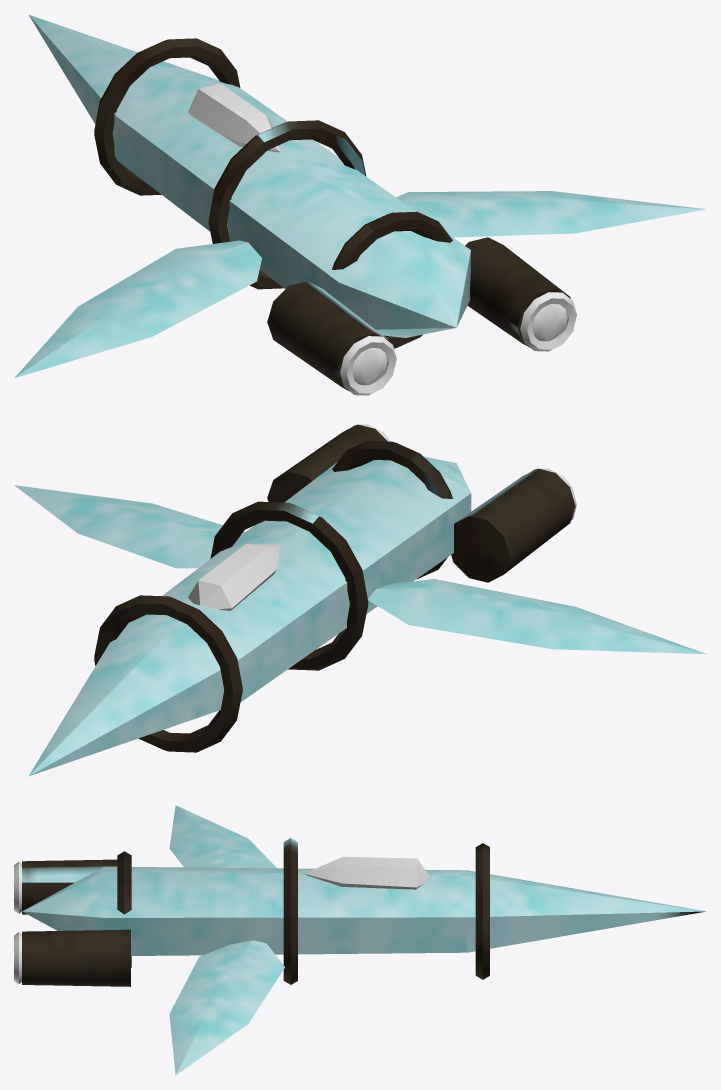
File: Vortidos_Fighter.fbx
The picture shows the model from 3 angles, top to bottom: view 1: azimuth 30°, elevation 25°; view 2: azimuth 150°, elevation 25°; view 3: azimuth 270°, elevation 25°; orthographic projection. The views are drawn at different scales.
Parts seen in each view (by area): view 1: Body, BodyBrillo; view 2: Body, BodyBrillo; view 3: Body, BodyBrillo.
Part boxes in pixels (x1,y1,x2,y2): Body: [14, 14, 705, 395]; BodyBrillo: [188, 83, 576, 395]; Body: [14, 424, 706, 776]; BodyBrillo: [188, 424, 576, 610]; Body: [22, 805, 706, 1075]; BodyBrillo: [14, 856, 428, 983].
Bounding box in the file's own units: 1000 × 230 × 1083.
